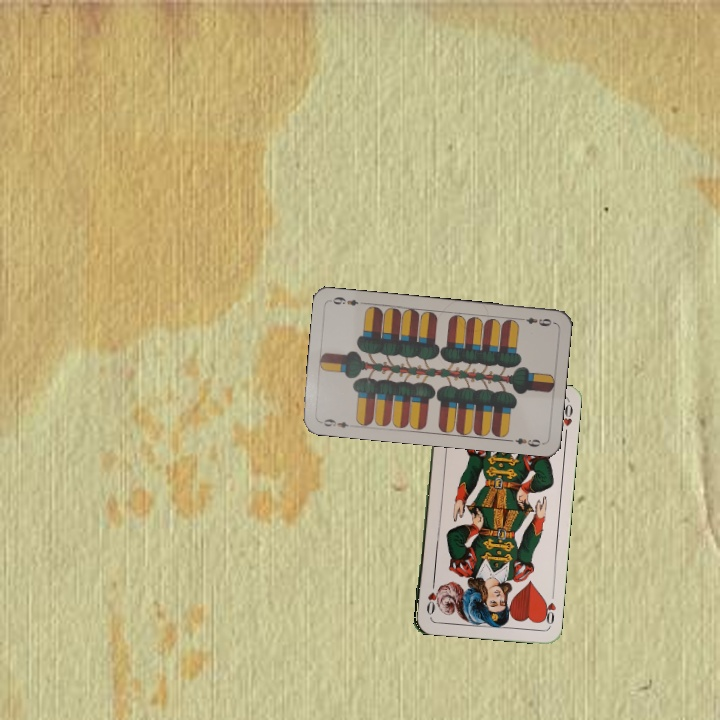E9: (316, 415, 357, 431), (515, 313, 554, 329)
HO: (538, 588, 559, 628)
